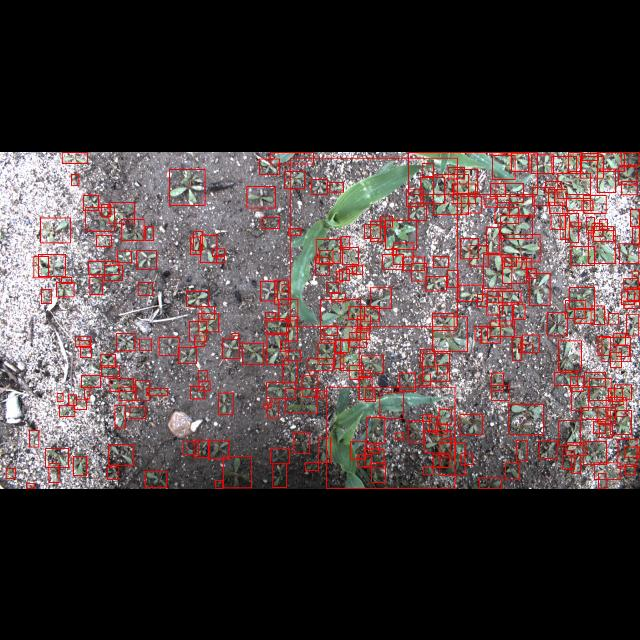crop: (290, 158, 458, 326), (326, 387, 456, 488), (408, 151, 538, 193), (270, 151, 314, 163)
weed: (320, 299, 360, 339), (434, 174, 468, 214), (432, 316, 468, 352), (169, 168, 205, 204), (508, 404, 544, 434), (502, 233, 540, 261), (484, 253, 512, 287), (223, 456, 251, 488), (588, 230, 616, 262), (386, 220, 416, 248), (558, 172, 590, 198), (440, 442, 464, 476), (422, 353, 450, 381), (285, 388, 317, 412), (500, 214, 532, 238), (602, 336, 630, 362), (41, 218, 71, 242), (558, 340, 582, 370), (86, 206, 114, 230), (266, 334, 288, 364), (530, 273, 550, 305), (380, 392, 404, 418), (421, 177, 445, 203), (502, 257, 526, 283), (38, 254, 66, 276), (247, 186, 276, 207), (340, 340, 360, 370), (316, 238, 340, 262), (454, 168, 478, 192), (108, 444, 134, 466), (424, 430, 450, 452), (558, 420, 580, 446), (569, 287, 595, 309), (496, 182, 524, 202), (610, 410, 632, 434), (580, 155, 604, 177), (492, 154, 514, 178), (109, 202, 135, 222), (366, 417, 386, 443), (510, 196, 534, 217), (618, 439, 636, 467), (122, 218, 144, 240), (589, 378, 611, 400), (584, 442, 606, 464), (266, 382, 296, 398), (547, 312, 567, 336), (596, 168, 616, 192), (571, 245, 595, 265), (200, 234, 217, 262), (594, 462, 620, 480), (598, 152, 624, 170), (242, 342, 264, 363), (46, 448, 68, 468), (278, 298, 298, 320), (393, 242, 413, 264), (460, 414, 482, 434), (453, 183, 475, 203), (89, 260, 119, 274), (371, 287, 392, 307), (364, 448, 384, 468), (606, 396, 626, 416), (619, 243, 639, 263), (361, 355, 383, 373), (432, 312, 454, 330), (470, 244, 488, 266), (584, 194, 606, 212), (532, 187, 554, 205), (531, 154, 553, 172), (459, 284, 483, 300), (490, 320, 514, 336), (495, 207, 519, 223), (572, 386, 588, 410), (566, 193, 590, 209), (552, 156, 576, 172), (208, 439, 228, 458), (198, 313, 218, 332), (137, 250, 157, 268), (159, 337, 179, 355), (222, 338, 240, 358), (260, 280, 278, 300), (461, 238, 479, 258), (285, 170, 305, 188), (565, 300, 585, 318), (566, 212, 578, 242), (145, 471, 167, 487), (186, 290, 208, 306), (282, 360, 298, 382), (190, 321, 207, 341), (462, 195, 482, 212), (486, 226, 499, 252), (218, 392, 234, 413), (274, 279, 288, 303), (273, 463, 287, 487), (318, 342, 334, 363), (408, 421, 424, 442), (406, 188, 424, 206), (408, 202, 426, 220), (539, 440, 557, 458), (618, 166, 636, 184), (270, 448, 290, 464), (294, 432, 310, 452), (302, 376, 318, 396), (370, 221, 386, 241), (360, 306, 380, 322), (399, 372, 415, 392), (440, 438, 456, 458), (481, 326, 501, 342), (259, 158, 279, 174), (582, 407, 608, 419), (34, 255, 48, 277), (266, 318, 288, 332), (402, 256, 424, 270), (584, 372, 606, 386), (116, 334, 134, 351), (382, 254, 403, 268), (104, 264, 122, 280), (114, 404, 126, 428), (110, 378, 134, 390), (178, 347, 196, 363), (286, 316, 298, 340), (318, 438, 330, 462), (308, 358, 332, 370), (342, 246, 358, 264), (350, 441, 366, 459), (498, 290, 522, 302), (487, 296, 503, 314), (523, 334, 539, 352), (554, 372, 578, 384), (598, 407, 616, 423), (614, 384, 632, 400), (548, 189, 566, 205), (512, 152, 528, 170), (73, 456, 87, 476), (135, 380, 149, 400), (371, 462, 385, 482), (426, 276, 446, 290), (566, 442, 586, 456), (574, 308, 594, 322), (591, 304, 605, 324), (593, 226, 613, 240), (360, 377, 372, 399), (500, 304, 512, 326), (626, 313, 638, 335), (62, 152, 88, 162), (492, 384, 508, 400), (311, 178, 327, 194), (56, 282, 74, 296), (118, 386, 136, 400), (194, 439, 208, 457), (316, 257, 330, 275), (412, 262, 426, 280), (432, 454, 450, 468), (505, 462, 519, 480), (568, 152, 582, 170), (81, 375, 101, 387), (516, 440, 528, 460), (420, 349, 434, 366), (512, 336, 522, 359), (562, 449, 574, 468), (84, 194, 98, 210), (364, 223, 380, 237), (350, 332, 366, 346), (438, 409, 452, 425), (490, 182, 506, 196), (551, 212, 565, 228), (479, 478, 501, 488), (90, 276, 102, 294), (491, 372, 503, 390), (598, 336, 610, 354), (621, 152, 639, 164), (622, 180, 638, 193), (49, 463, 59, 483), (100, 365, 120, 375), (319, 250, 333, 264), (349, 365, 363, 379), (474, 326, 488, 340), (570, 376, 584, 390), (96, 234, 112, 246), (116, 250, 132, 262), (100, 354, 116, 366), (130, 406, 146, 418), (349, 306, 365, 318), (448, 166, 464, 178), (262, 216, 278, 228), (610, 351, 622, 367), (560, 215, 568, 239), (592, 421, 606, 434), (191, 236, 201, 254), (630, 208, 640, 226), (146, 388, 168, 396), (624, 447, 640, 458), (29, 429, 39, 446), (190, 386, 204, 398), (138, 282, 152, 294), (184, 442, 198, 454), (356, 327, 370, 339), (358, 315, 370, 329), (488, 290, 502, 302), (513, 304, 525, 318), (608, 388, 622, 400), (600, 424, 612, 438), (627, 286, 639, 300), (268, 402, 278, 418), (194, 230, 202, 250), (448, 270, 458, 286), (546, 181, 562, 191), (422, 162, 434, 175), (138, 338, 152, 349), (202, 306, 214, 318), (336, 340, 348, 352), (358, 454, 370, 466), (572, 455, 580, 473), (614, 332, 626, 344), (616, 344, 628, 356), (622, 292, 634, 304), (108, 466, 119, 479), (41, 289, 51, 303), (76, 336, 90, 346), (60, 406, 74, 416), (286, 350, 300, 360), (324, 325, 338, 335), (334, 354, 344, 368), (434, 256, 448, 266), (329, 181, 343, 191), (624, 278, 638, 288), (381, 216, 393, 227), (592, 222, 602, 235), (429, 416, 437, 432), (632, 227, 640, 243), (586, 216, 594, 232), (582, 152, 598, 160), (519, 343, 533, 352), (80, 347, 92, 357), (74, 399, 86, 409), (198, 381, 210, 391), (326, 282, 338, 292), (339, 268, 349, 280), (340, 236, 350, 248), (365, 389, 375, 401), (461, 454, 473, 464), (435, 424, 447, 434), (477, 294, 487, 306), (504, 256, 516, 266), (608, 312, 618, 324), (550, 202, 562, 212), (146, 226, 154, 240), (305, 462, 319, 470), (331, 293, 345, 301), (598, 474, 606, 488), (624, 300, 638, 308), (198, 371, 208, 382), (194, 336, 204, 346), (353, 264, 363, 274), (420, 374, 430, 384), (437, 364, 447, 374), (522, 258, 532, 268), (625, 464, 635, 474), (582, 199, 592, 209), (102, 203, 110, 215), (212, 248, 224, 256), (485, 198, 497, 206), (612, 396, 624, 404), (266, 312, 276, 321), (289, 228, 301, 235), (80, 340, 90, 348), (68, 395, 76, 405), (6, 468, 14, 478), (369, 445, 379, 453), (423, 466, 433, 474), (422, 414, 432, 422), (528, 268, 536, 278), (599, 219, 607, 229), (72, 173, 78, 185), (336, 270, 342, 282), (359, 370, 371, 376), (570, 220, 582, 226), (280, 341, 286, 352), (215, 480, 223, 488), (316, 390, 324, 398), (217, 254, 225, 262), (395, 432, 403, 440), (61, 277, 71, 283), (84, 388, 90, 398), (347, 266, 357, 272), (57, 393, 63, 401), (282, 283, 288, 291), (632, 270, 638, 276), (27, 484, 35, 488), (263, 403, 271, 407), (392, 247, 396, 255), (232, 332, 238, 336)
